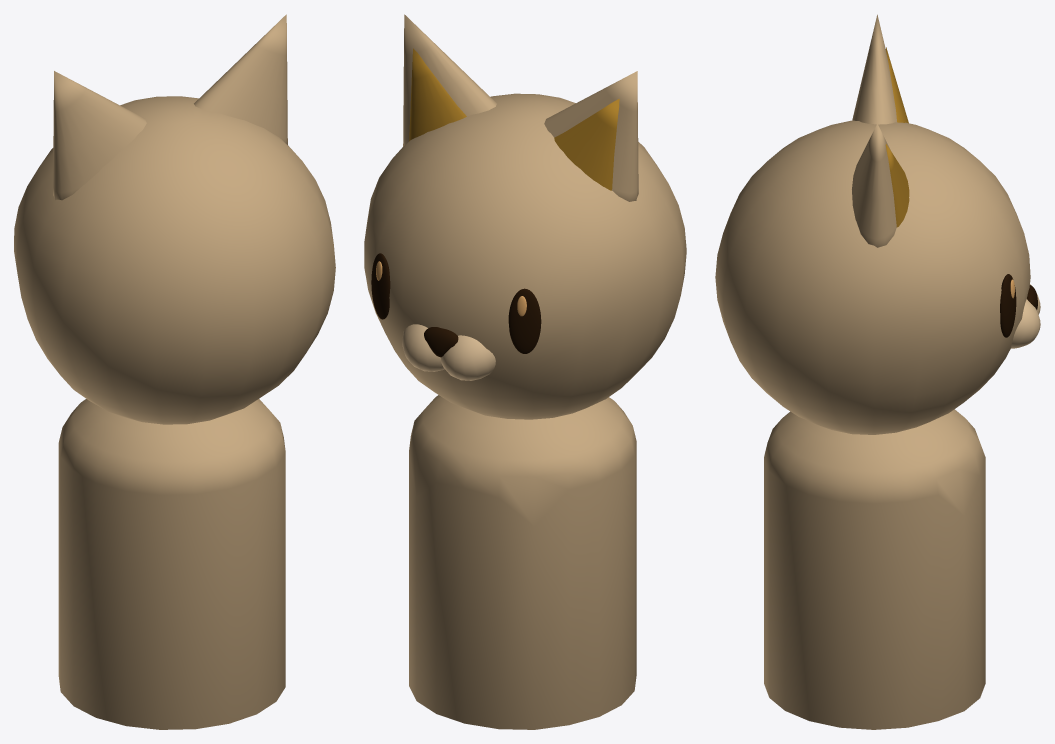
The model's file is cat.fbx.
3 views of the same model, side by side, from view 1: azimuth 30°, elevation 25°; view 2: azimuth 150°, elevation 25°; view 3: azimuth 270°, elevation 25° (orthographic). The views are drawn at different scales.
Parts seen in each view (by area): view 1: head, body, pCone1 (×2); view 2: head, body, pCone1 (×2), pCone2 (×2), snoutbase2, eyeL, snoutbase1, eyeR, nose; view 3: head, body, pCone1 (×2), pCone2, snoutbase1, eyeR.
Part boxes in pixels (x1,y1,x2,y2): head: (14, 96, 335, 424); body: (58, 399, 285, 729); pCone1 (×2): (53, 14, 287, 200); head: (364, 93, 686, 419); body: (409, 395, 636, 729); pCone1 (×2): (403, 14, 638, 201); pCone2 (×2): (409, 48, 619, 190); snoutbase2: (441, 335, 495, 380); eyeL: (508, 288, 541, 353); snoutbase1: (402, 324, 444, 371); eyeR: (371, 253, 390, 319); nose: (424, 327, 458, 357); head: (715, 120, 1030, 434); body: (764, 409, 985, 729); pCone1 (×2): (852, 14, 896, 247); pCone2: (885, 144, 909, 227); snoutbase1: (1011, 299, 1040, 348); eyeR: (1000, 274, 1016, 337).
Bounding box in the file's own units: 3.78 × 8.27 × 3.96.
